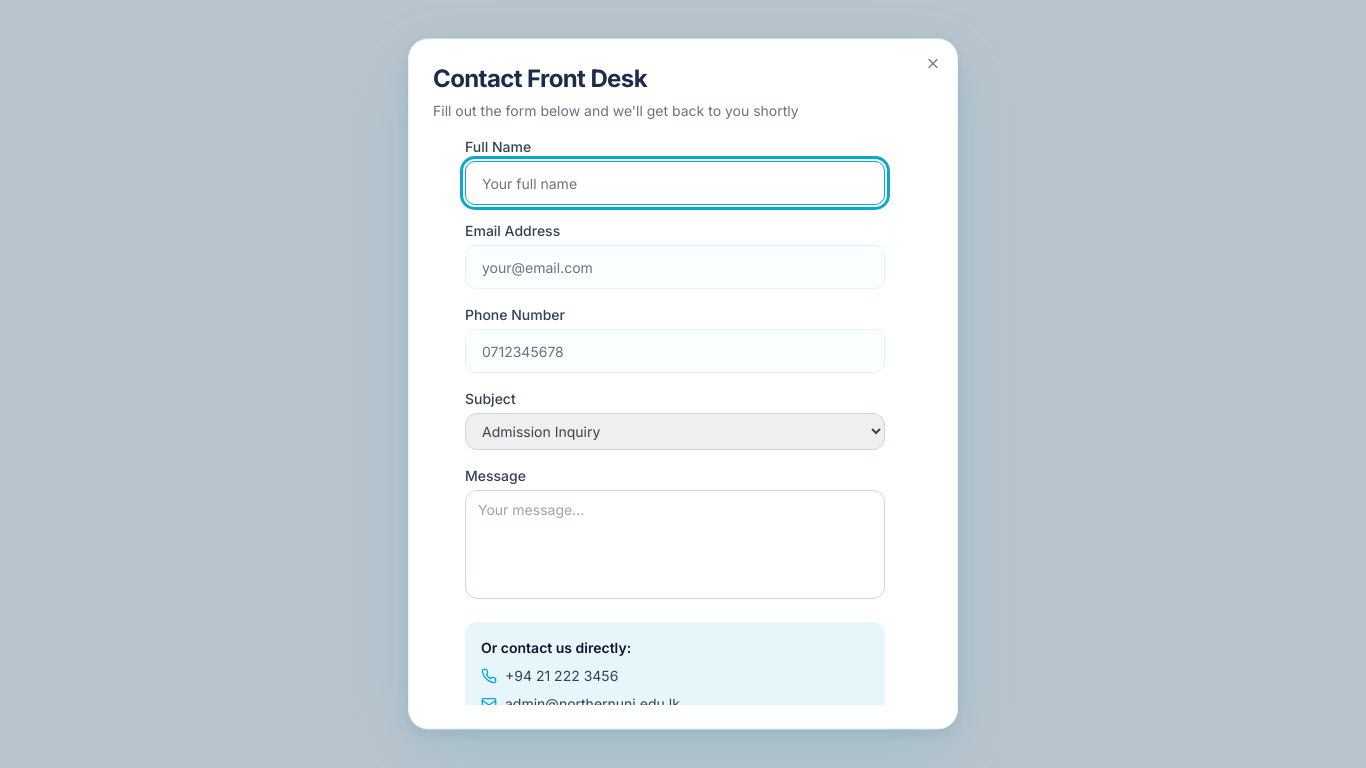
Test: ContactModal › normalizes phone input to only 10 digits
Step 1. Type "07123abc456789" into the field with placeholder "0712345678" → (675, 351), box [465,329,885,373]
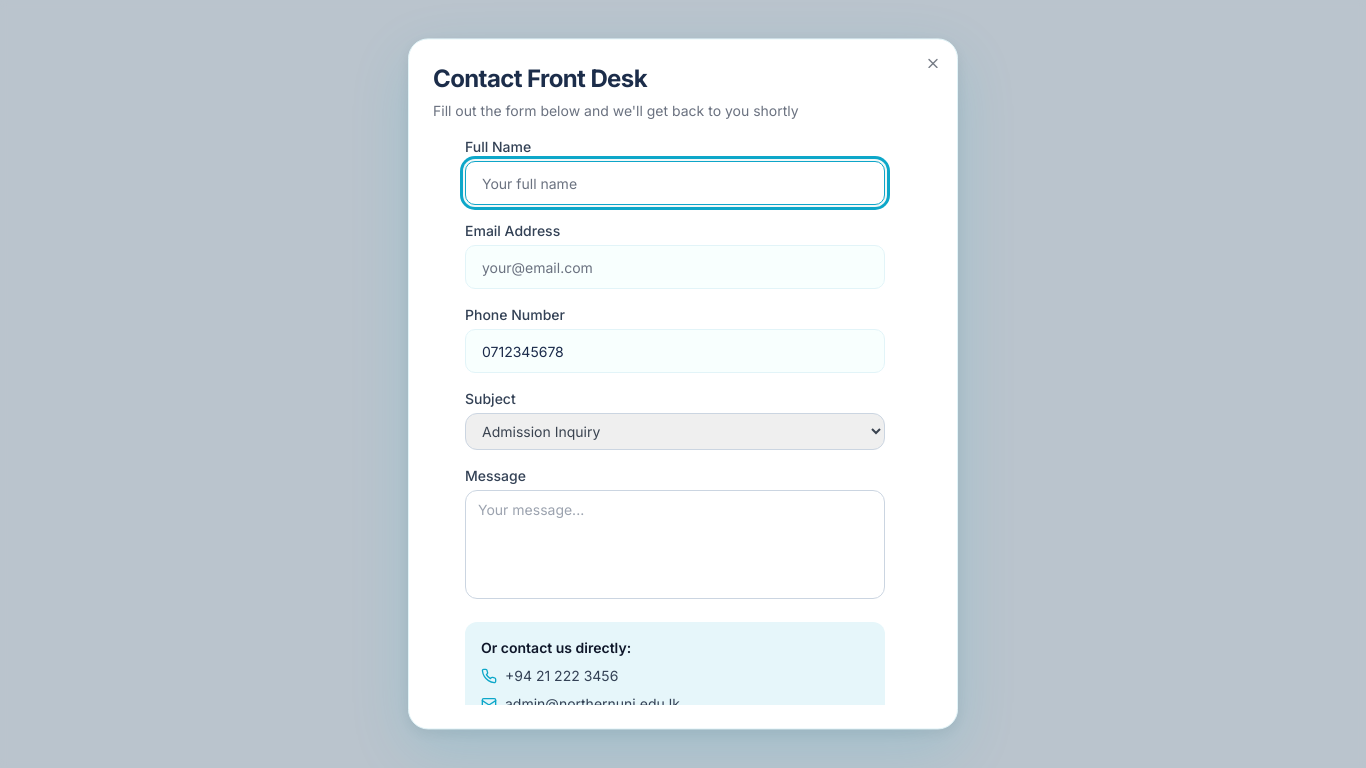
Expected: the field with placeholder "0712345678" holds "0712345678", [465,329,885,373]
